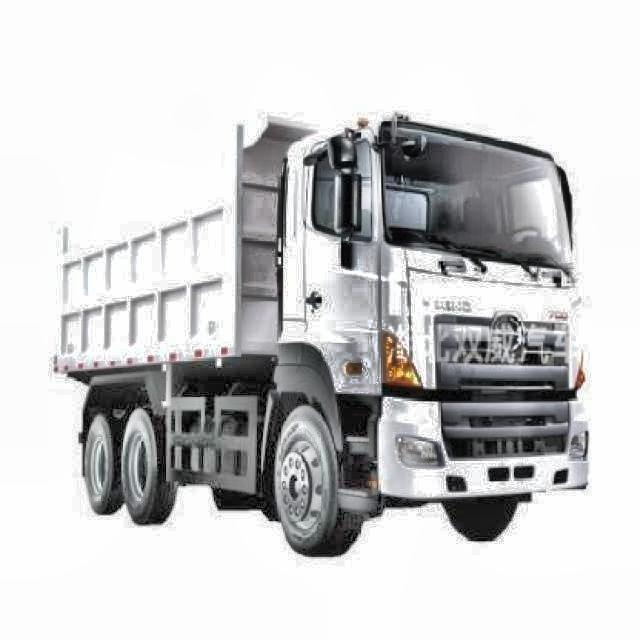dump_truck: (53, 93, 596, 570)
